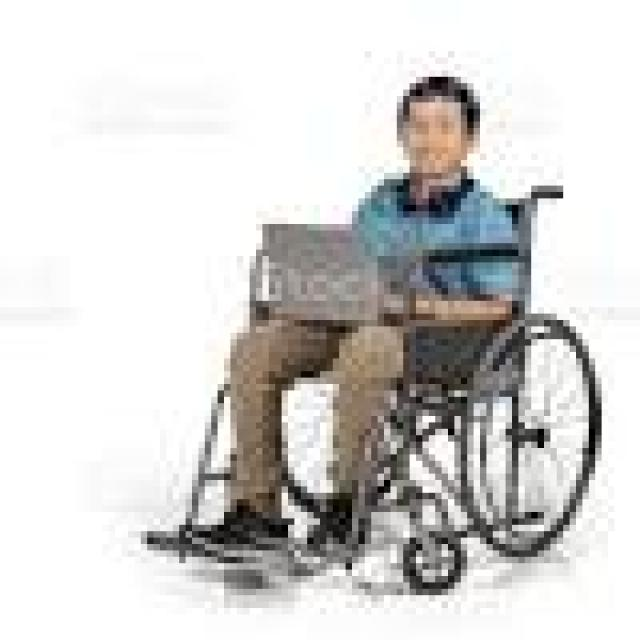wheelchairs: (141, 173, 576, 589)
